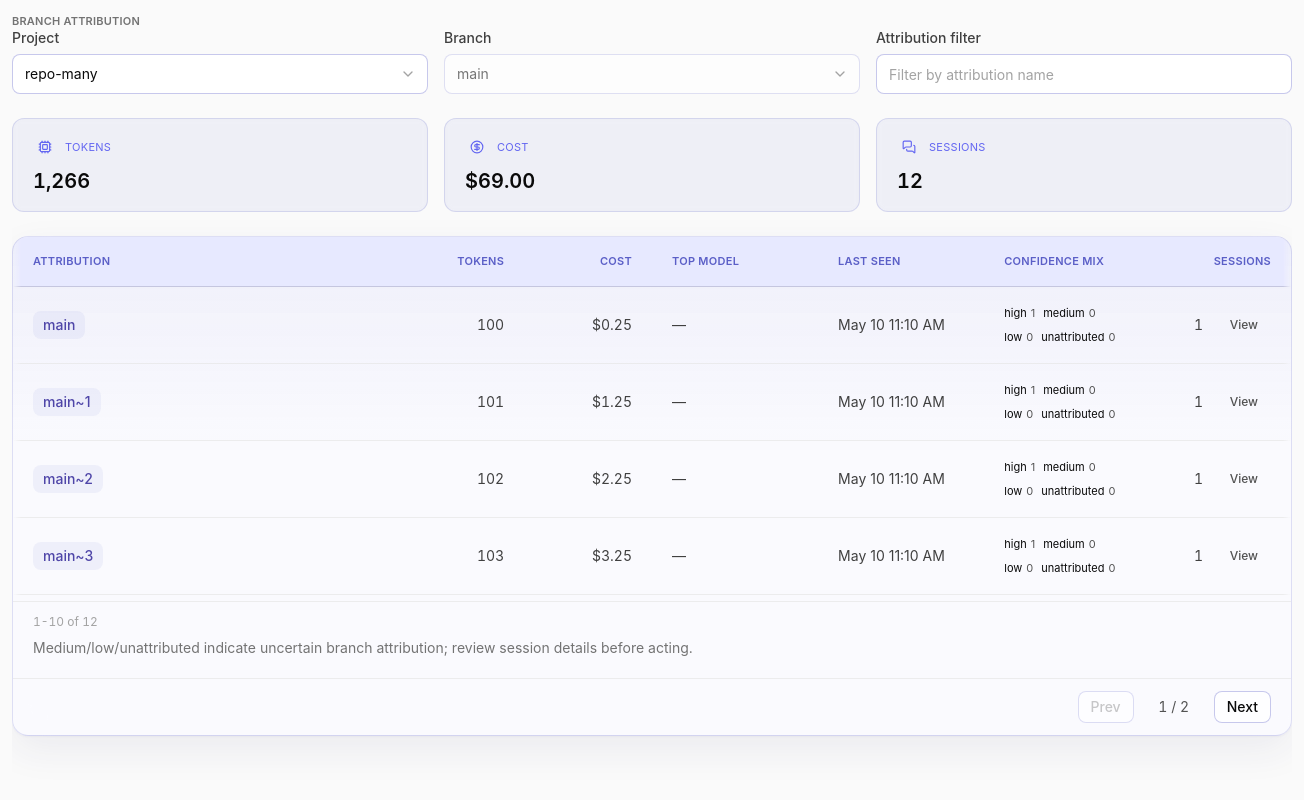
BranchesPage › paginates branch rows at ten rows per page
The image size is (1304, 800).
(page scrolled)
expect the text "main~10" is not shown: met
expect the text "1-10 of 12" is shown: met, box [33, 614, 98, 630]
What coordinates should you click on to do the following:
click the button "Next"
I would click on:
 (1242, 708)
Its box is [1214, 692, 1271, 724].
(page scrolled)
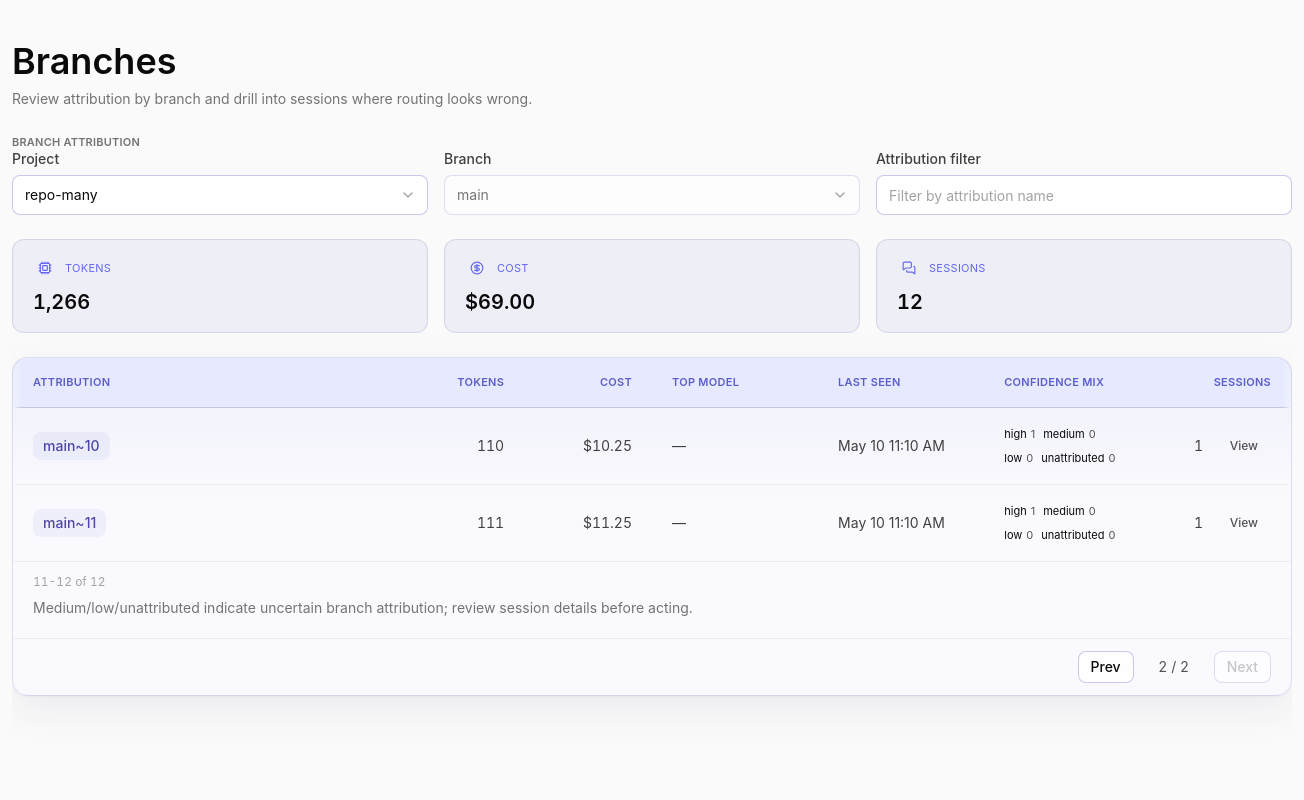
expect the text "main~10" is shown: met, box [33, 432, 110, 460]
expect the text "main~11" is shown: met, box [33, 509, 106, 537]
expect the text "11-12 of 12" is shown: met, box [33, 574, 106, 589]
